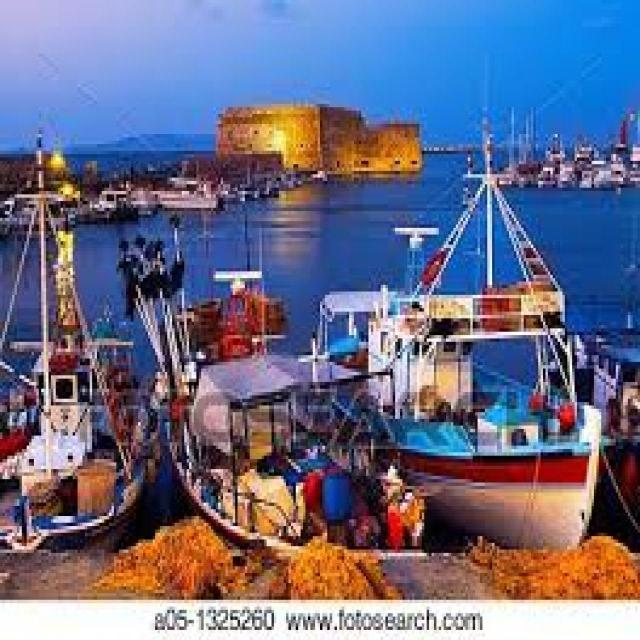Kules: (214, 103, 426, 181)
